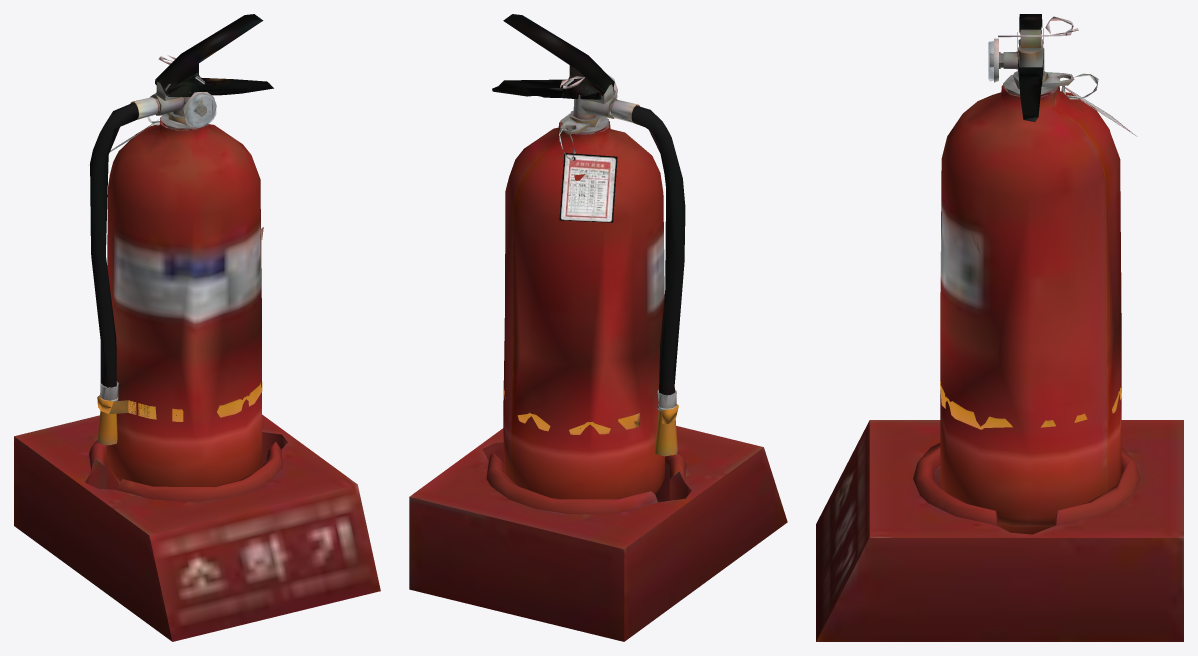
The model's file is extinguisher.glb.
The picture shows the model from 3 angles, left to right: view 1: azimuth 30°, elevation 25°; view 2: azimuth 150°, elevation 25°; view 3: azimuth 270°, elevation 25°; orthographic projection. The views are drawn at different scales.
Visible parts, largest first — view 1: korean_fire_extinguisher_01; view 2: korean_fire_extinguisher_01; view 3: korean_fire_extinguisher_01.
Boxes of the visible parts, box(x1,y1,x2,y2) form: korean_fire_extinguisher_01: box(14, 14, 380, 641); korean_fire_extinguisher_01: box(409, 14, 787, 641); korean_fire_extinguisher_01: box(816, 14, 1183, 641).
Size of the model in its own units: 0.279 by 0.6581 by 0.3675.
Materials: 3 (3 with a texture image).
